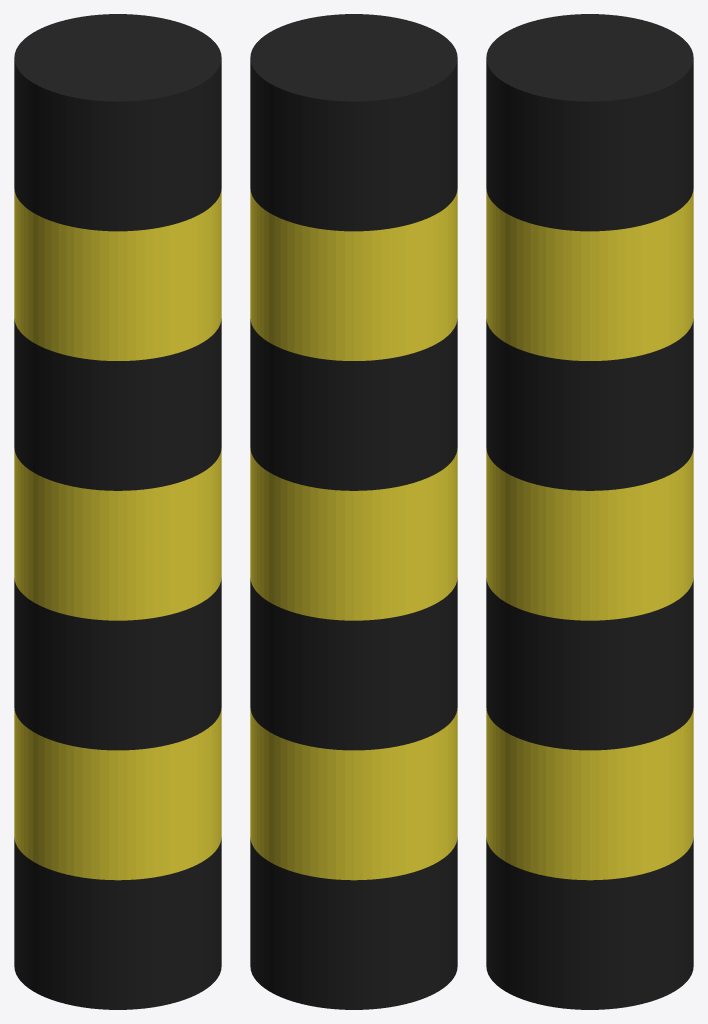
Rendered from Post.fbx.
3 renders of one model, left to right at view 1: azimuth 30°, elevation 25°; view 2: azimuth 150°, elevation 25°; view 3: azimuth 270°, elevation 25°, orthographic.
Visible parts, largest first — view 1: Cylinder; view 2: Cylinder; view 3: Cylinder.
Part boxes in pixels (x1=…): Cylinder: x1=14, y1=14, x2=221, y2=1009; Cylinder: x1=250, y1=14, x2=457, y2=1009; Cylinder: x1=486, y1=14, x2=693, y2=1009.
Size of the model in its own units: 4.19 by 20.27 by 4.19.
